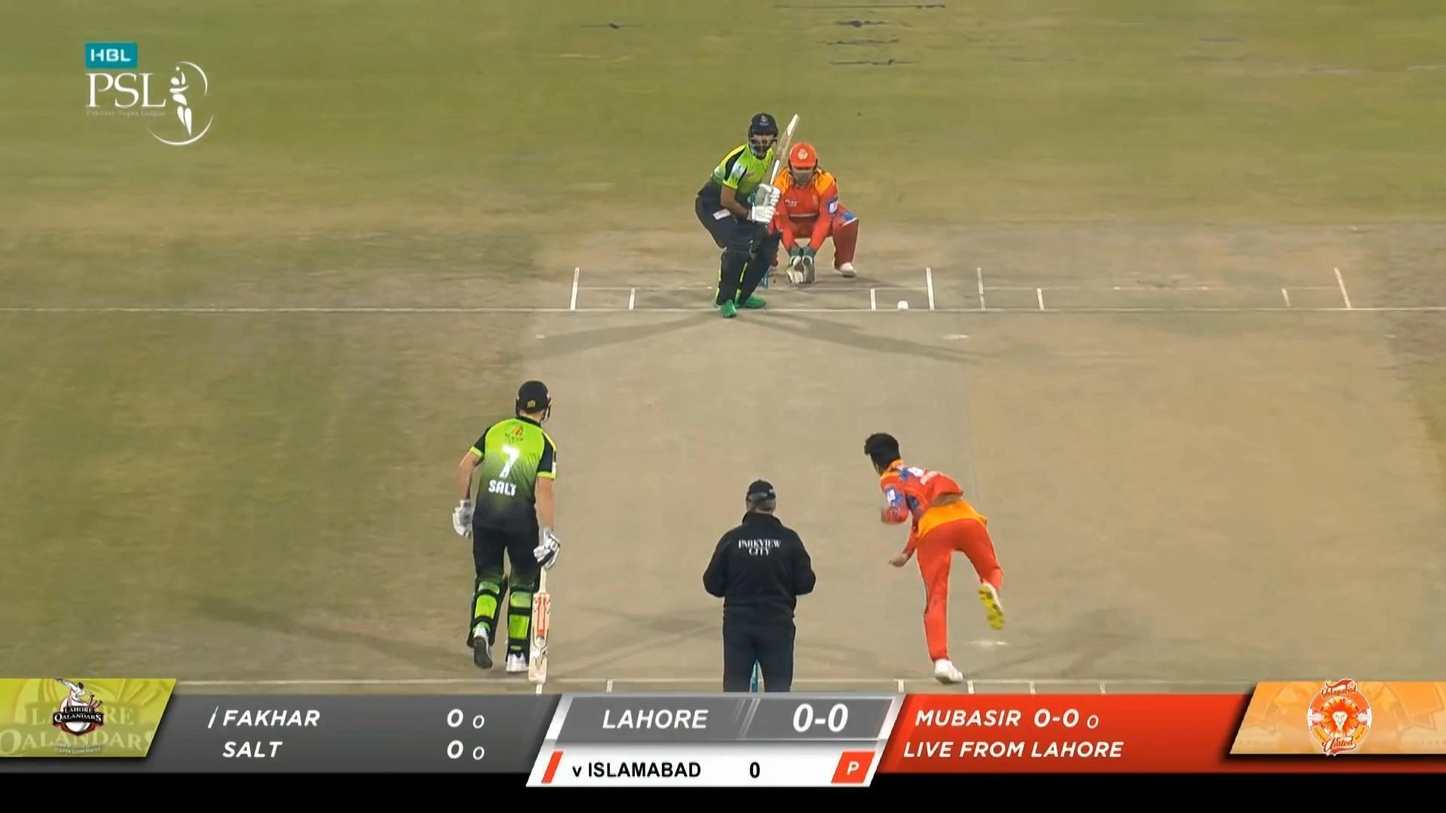BM 1: (693, 110, 801, 320)
BO: (861, 427, 1009, 683)
